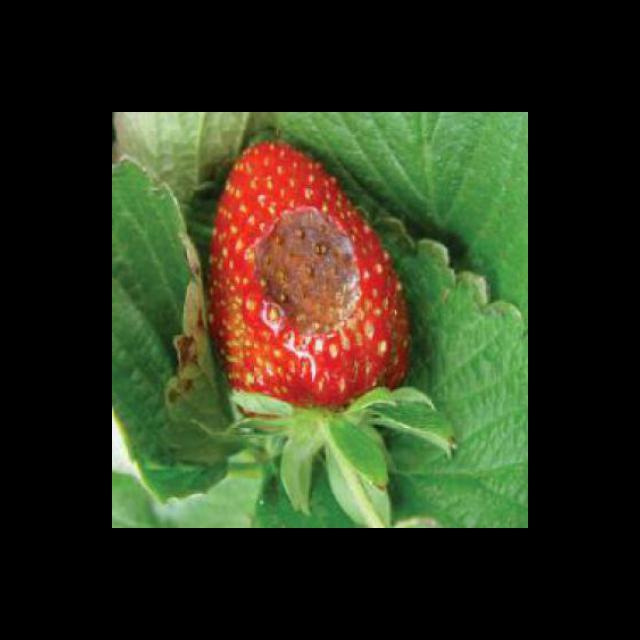Anthracnose Fruit Rot: (245, 205, 367, 343)
